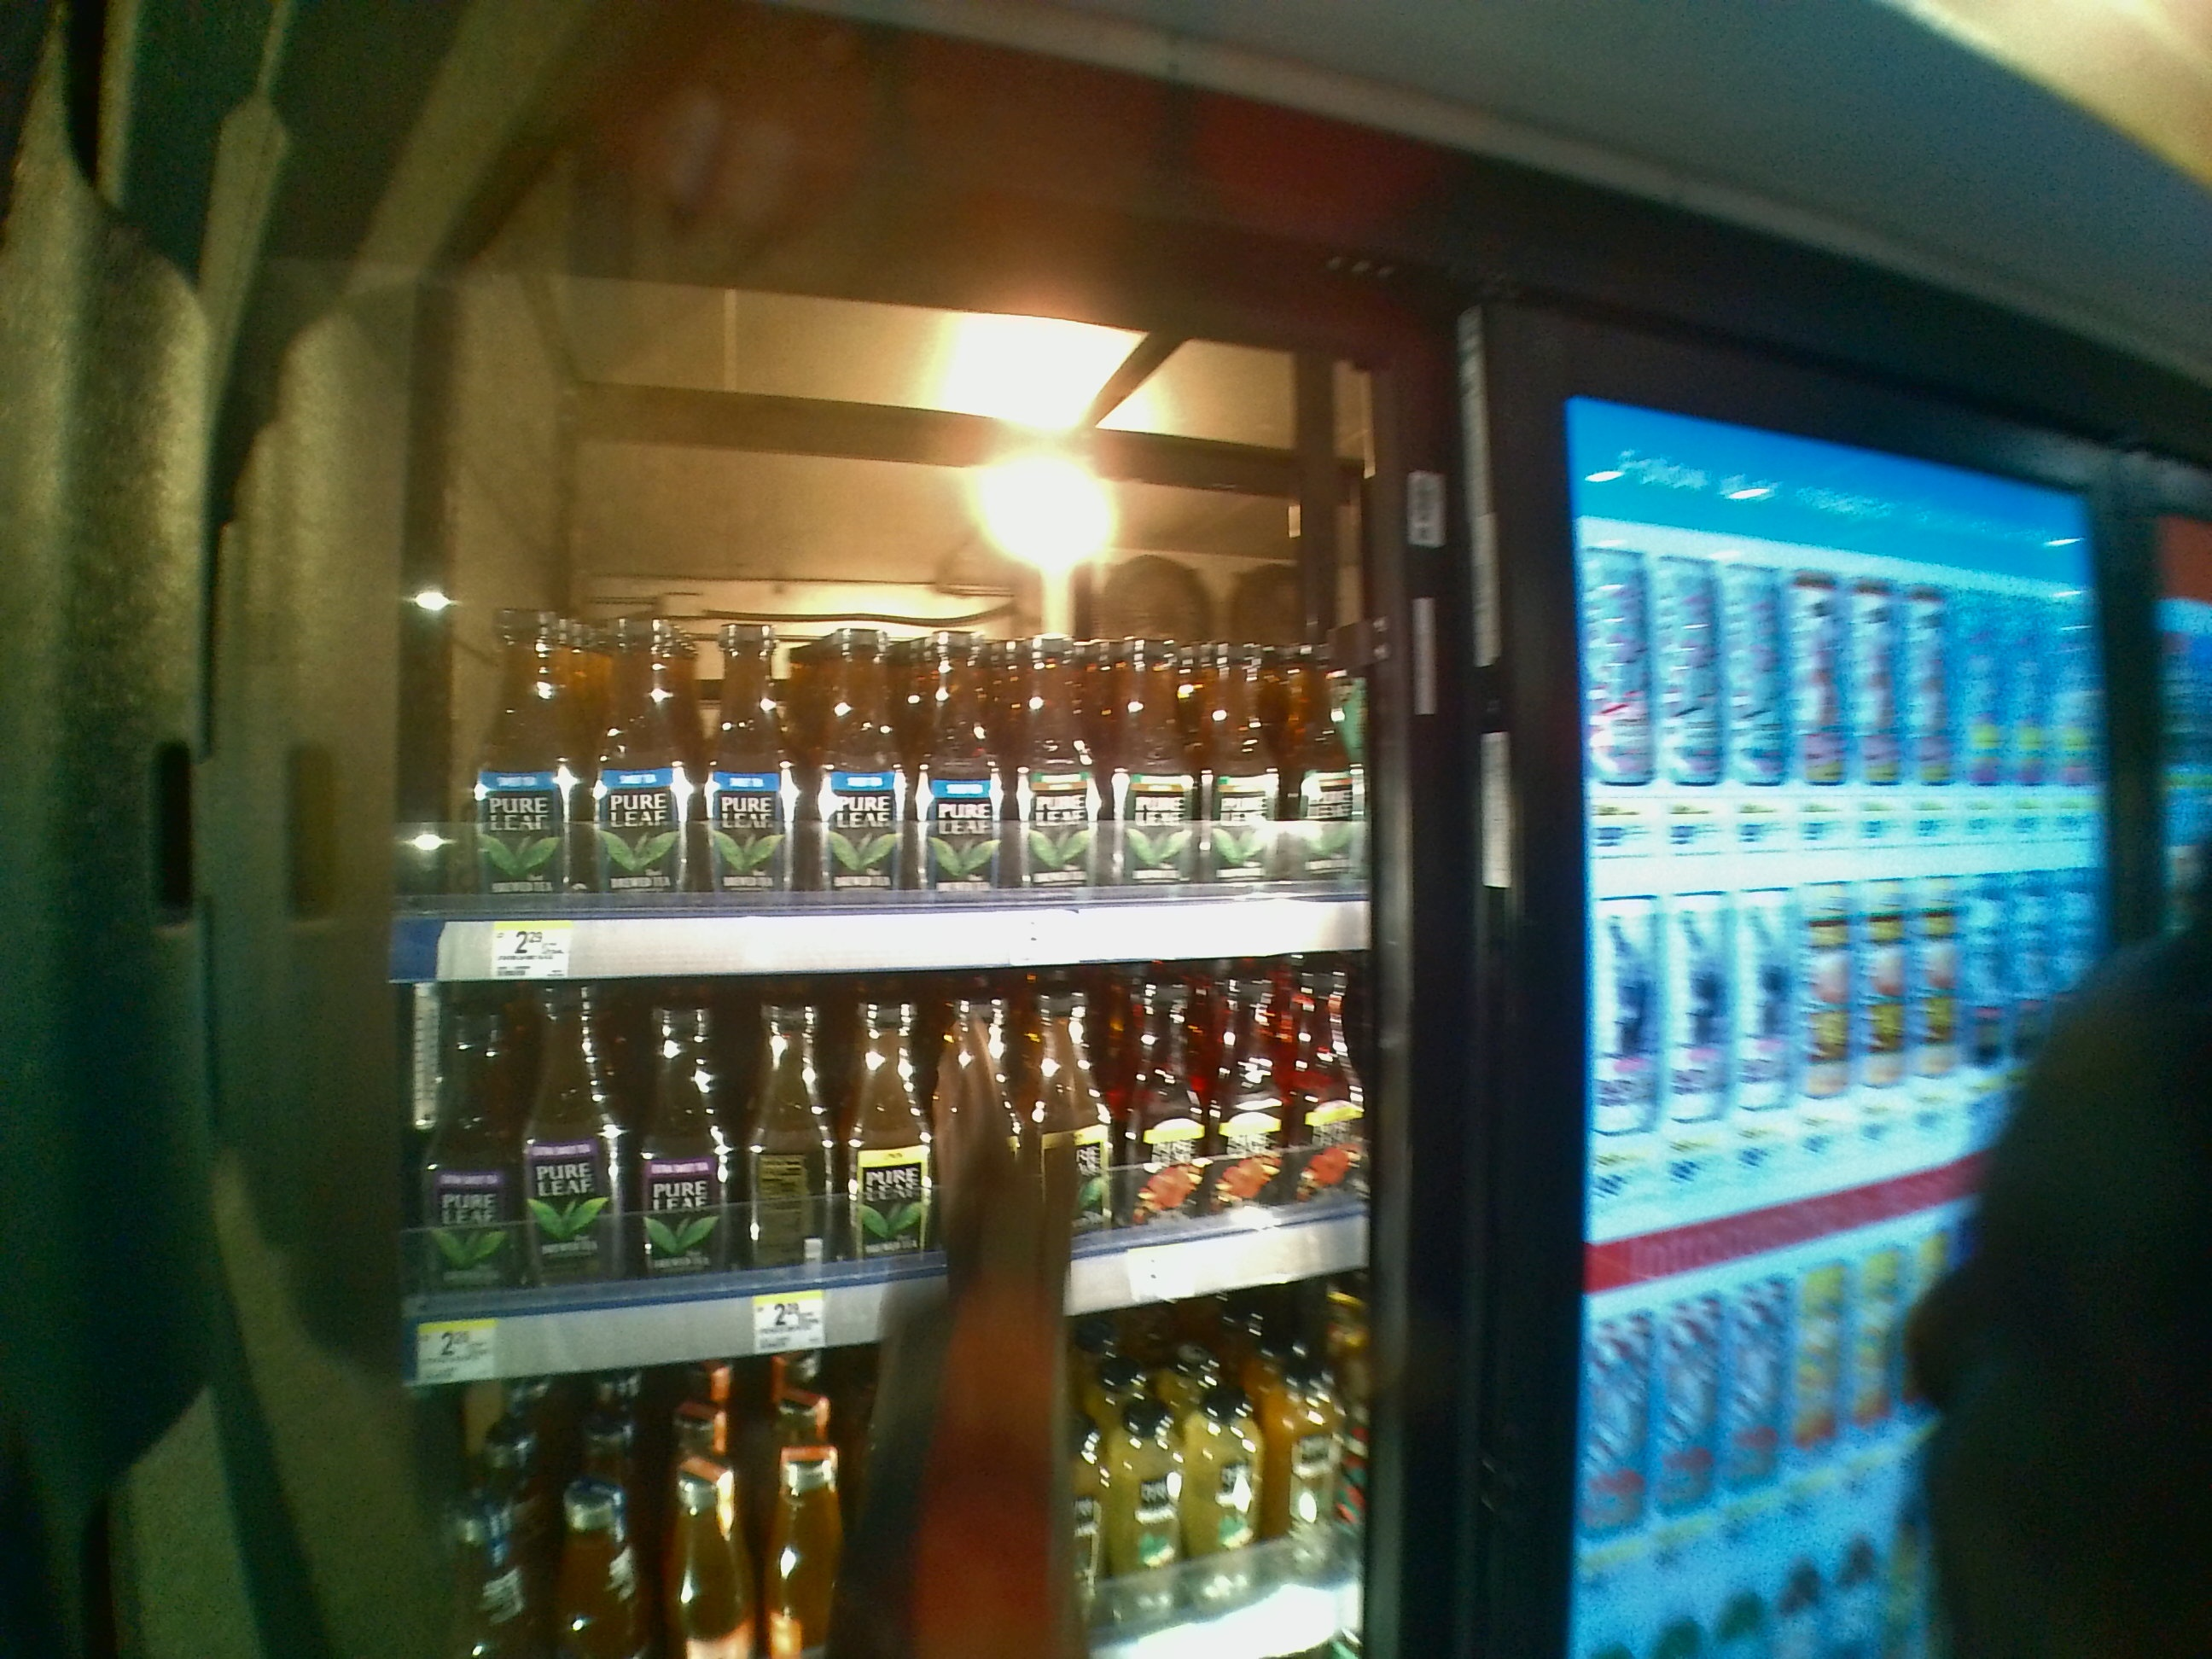shelf: (381, 413, 1372, 979), (388, 988, 1400, 1382)
